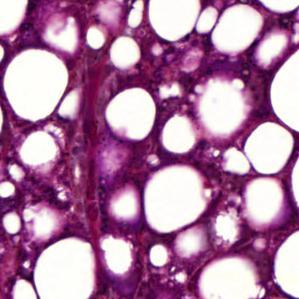steatosis: (4, 48, 71, 120), (270, 48, 299, 133)
